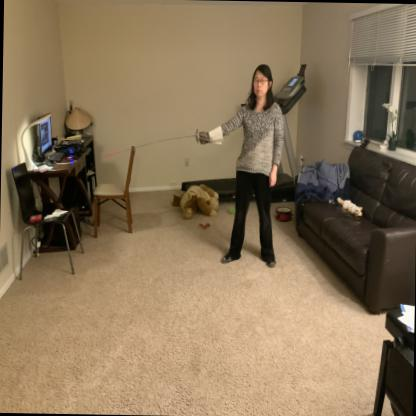foil-tip: (100, 150, 118, 166)
hand-and-foil: (96, 122, 220, 174)
